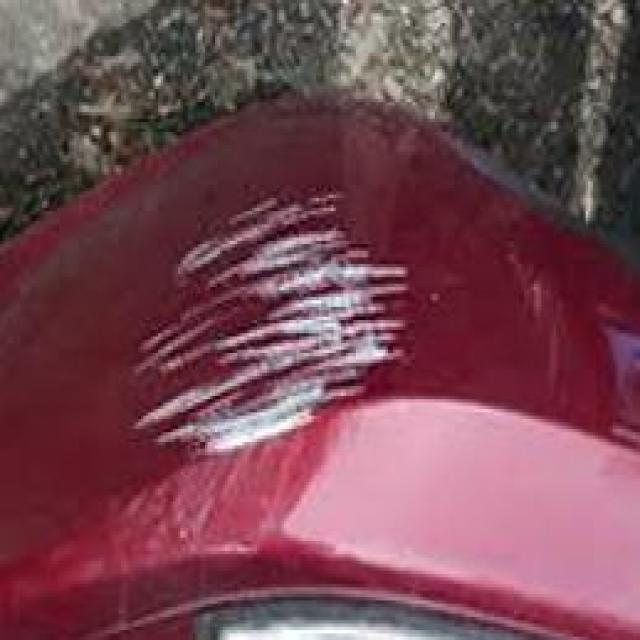scratch: (126, 178, 418, 462)
